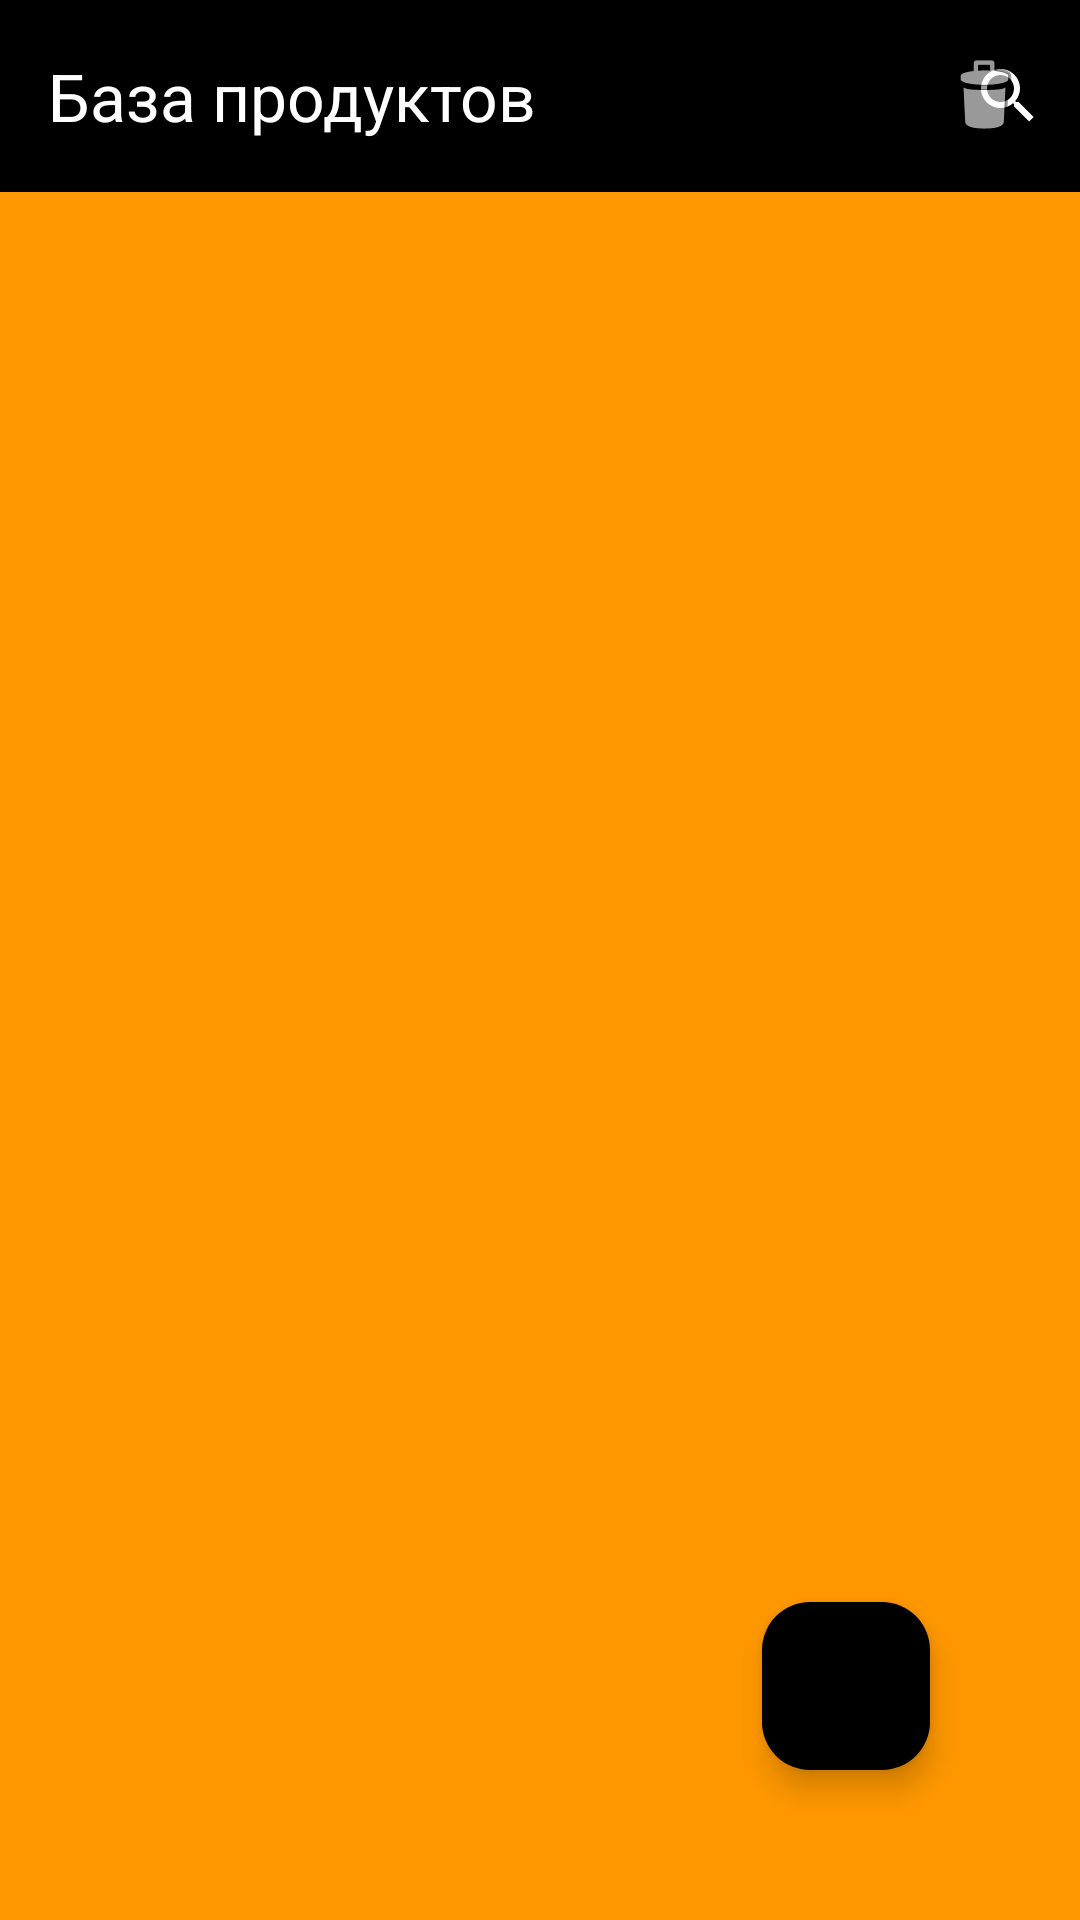

Named icons in this screenshot (1080 x 1920) and their bounding boxes, (x1, y1, x2, y2):
delete: (960, 60, 1032, 129)
